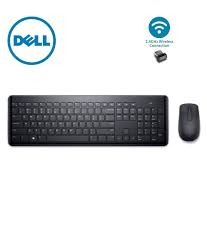keyboard: (7, 96, 170, 148)
mouse: (175, 101, 205, 146)
